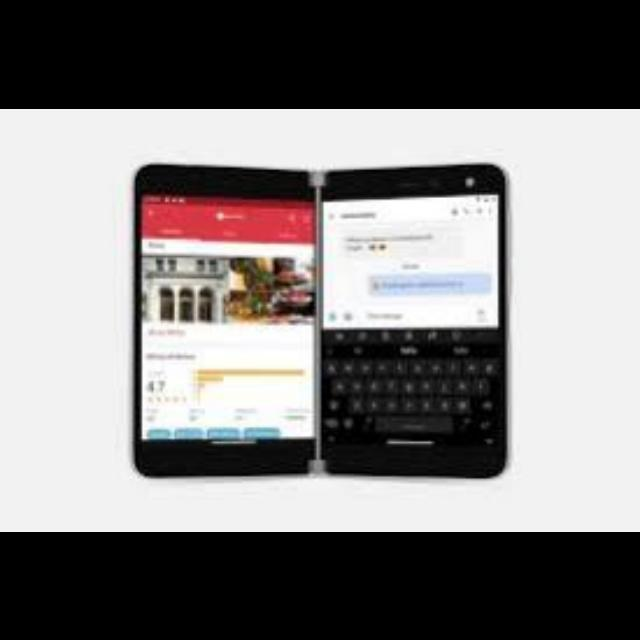PhoneUse: (322, 165, 512, 479), (136, 156, 316, 478)
